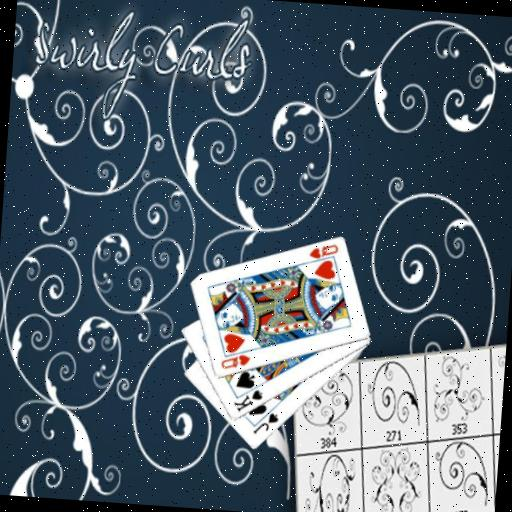JS: (250, 408, 281, 437)
KS: (231, 385, 265, 416)
QH: (304, 240, 341, 268), (217, 351, 252, 373)
